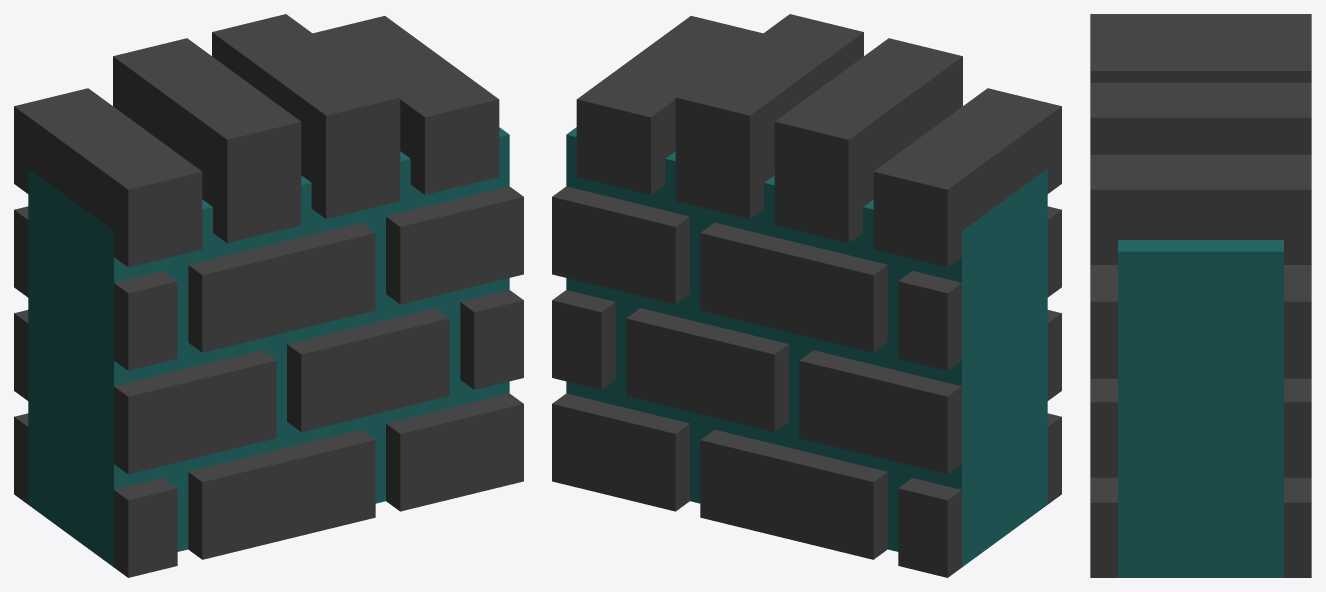
The model's file is fence.gltf.
3 views of the same model, side by side, from view 1: azimuth 30°, elevation 25°; view 2: azimuth 150°, elevation 25°; view 3: azimuth 270°, elevation 25° (orthographic). The views are drawn at different scales.
Parts seen in each view (by area): view 1: Content (61)-Mesh; view 2: Content (61)-Mesh; view 3: Content (61)-Mesh.
Part boxes in pixels (box(x1,y1,x2,y2)): Content (61)-Mesh: box(14, 14, 523, 577); Content (61)-Mesh: box(552, 14, 1061, 577); Content (61)-Mesh: box(1090, 14, 1311, 577).
Size of the model in its own units: 16 by 16 by 8.
Materials: 1 (1 with a texture image).
